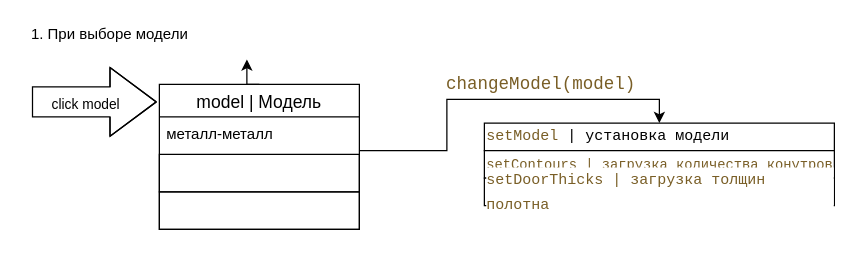
Image size: 856x254. Some labels were removed from this diagram. Here are the shapes that lost their labels. From the top down, the centre of each, then its label:
point 258,172: металл-панель
point 258,210: панель-панель
